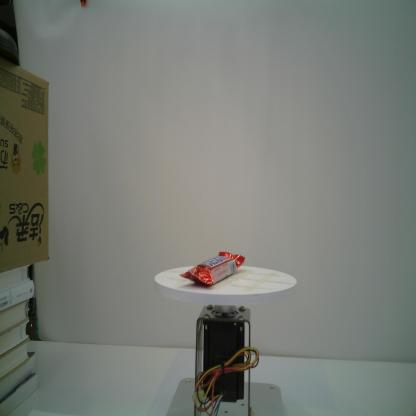Chocolate: (179, 250, 246, 287)
